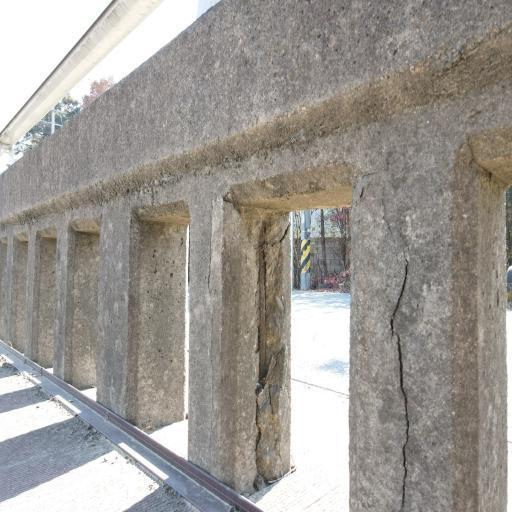exposed_rebar: (258, 247, 266, 380)
